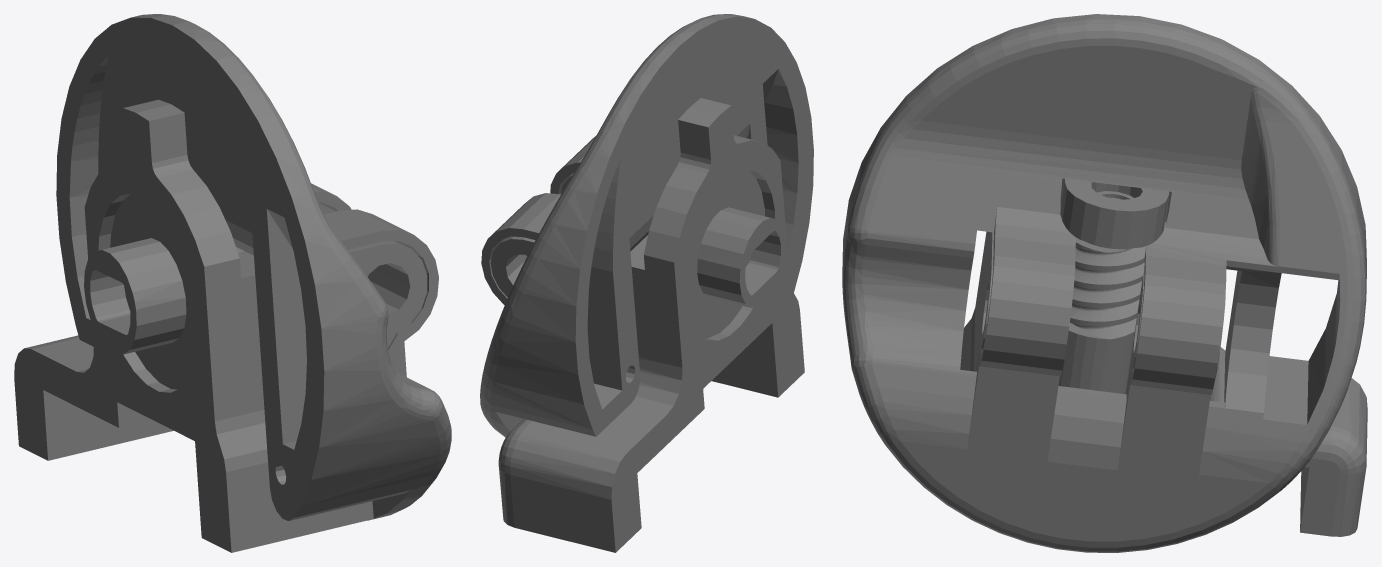
The model's file is rh_thumb_metacarpals_base1_vis.obj.
3 views of the same model, side by side, from view 1: azimuth 30°, elevation 25°; view 2: azimuth 150°, elevation 25°; view 3: azimuth 270°, elevation 25° (orthographic). The views are drawn at different scales.
Parts seen in each view (by area): view 1: rh_thumb_metacarpals_base1; view 2: rh_thumb_metacarpals_base1; view 3: rh_thumb_metacarpals_base1.
Boxes of the visible parts, left/top/right/bottom form: rh_thumb_metacarpals_base1: left=14, top=14, right=451, bottom=552; rh_thumb_metacarpals_base1: left=480, top=14, right=813, bottom=552; rh_thumb_metacarpals_base1: left=842, top=14, right=1367, bottom=552.
Bounding box in the file's own units: 0.0228 × 0.0402 × 0.0401.
Materials: 1 (1 with a texture image).
